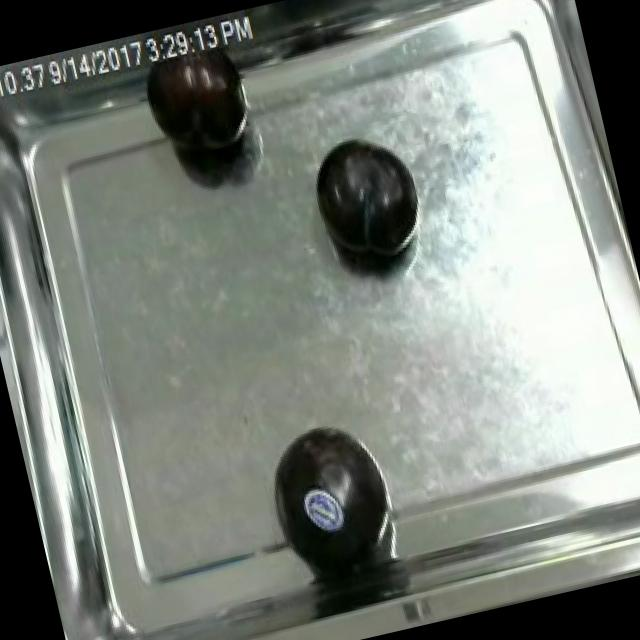Fruit: (298, 121, 430, 280), (290, 471, 354, 543)
